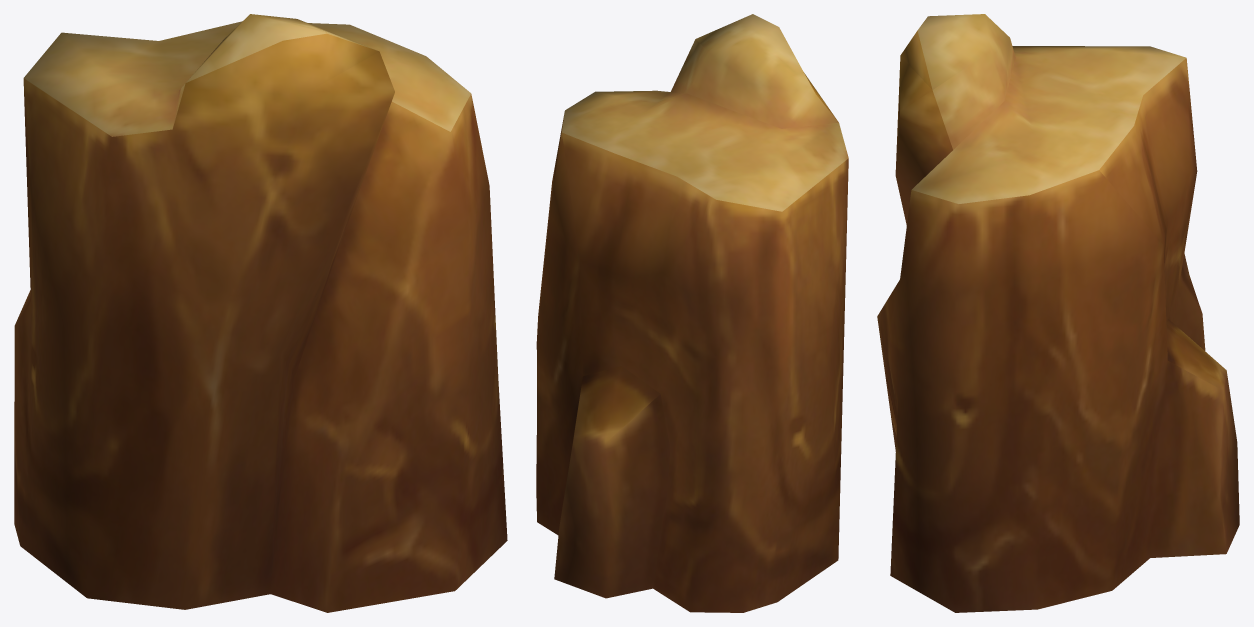
File: Stage_ShaMo_ShanShi10.FBX
3 views of the same model, side by side, from view 1: azimuth 30°, elevation 25°; view 2: azimuth 150°, elevation 25°; view 3: azimuth 270°, elevation 25° (orthographic). The views are drawn at different scales.
Parts seen in each view (by area): view 1: Stage_ShaMo_ShanShi10; view 2: Stage_ShaMo_ShanShi10; view 3: Stage_ShaMo_ShanShi10.
Part boxes in pixels (<box>): Stage_ShaMo_ShanShi10: <box>14,14,507,612</box>; Stage_ShaMo_ShanShi10: <box>536,14,848,612</box>; Stage_ShaMo_ShanShi10: <box>877,14,1239,612</box>.
Bounding box in the file's own units: 356 × 503 × 332.
